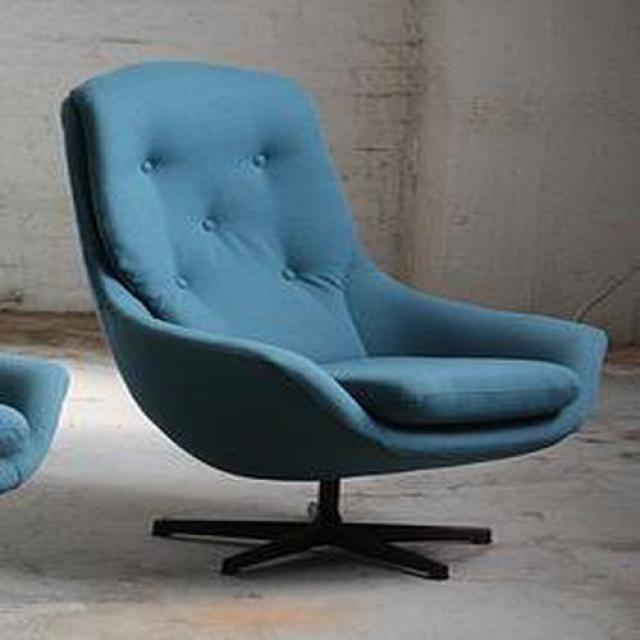swivelchair: (58, 60, 611, 582)
